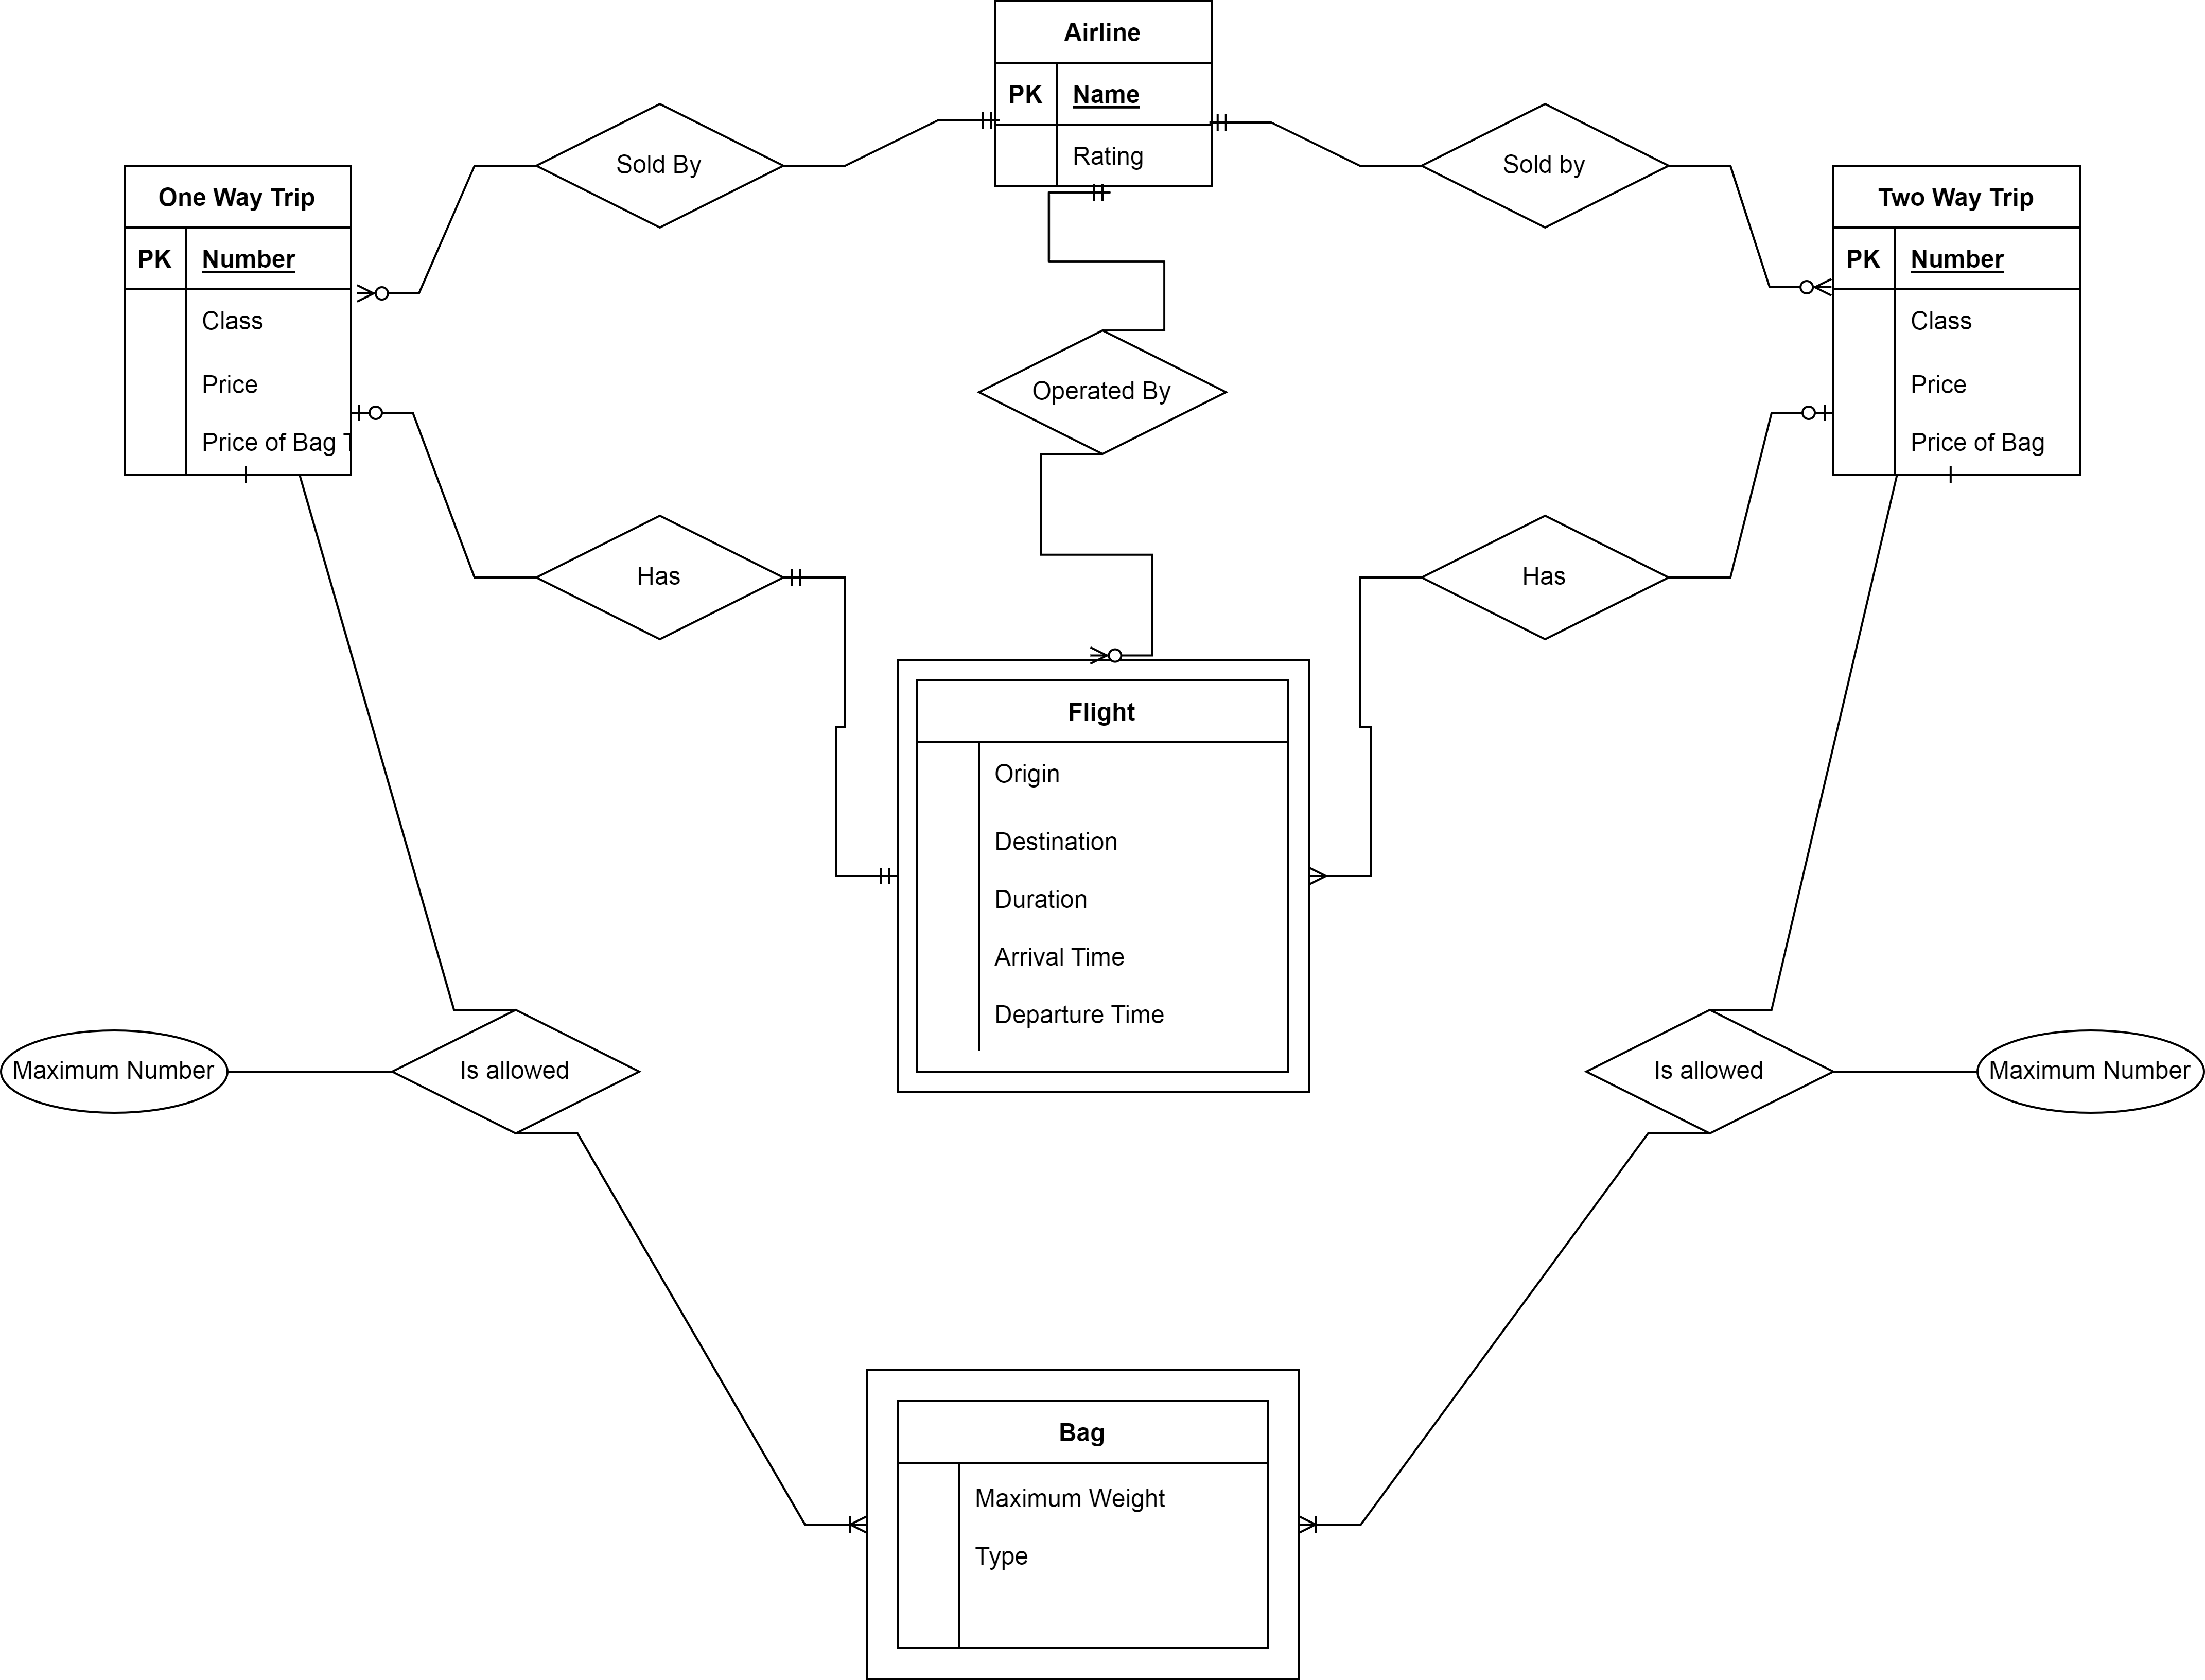entity: (1831, 166, 2083, 476), (123, 166, 351, 471), (993, 2, 1210, 187)
many: (348, 265, 415, 314), (1768, 263, 1831, 307), (1304, 856, 1367, 896), (1073, 632, 1138, 669), (1295, 1505, 1355, 1542), (799, 1505, 864, 1539)
one: (1768, 390, 1833, 434), (349, 394, 407, 432), (1210, 104, 1263, 143), (1912, 459, 1977, 489), (845, 854, 896, 889), (935, 106, 998, 134), (787, 563, 833, 595), (1073, 180, 1120, 206)
rel: (534, 510, 787, 646), (974, 326, 1230, 457), (1416, 514, 1667, 644), (1418, 106, 1671, 231), (1588, 1008, 1833, 1136), (540, 104, 781, 231), (395, 1011, 642, 1131)
rel_attr: (0, 1025, 226, 1115), (1974, 1027, 2205, 1114)
weak_entity: (898, 656, 1307, 1092), (870, 1368, 1295, 1678)
